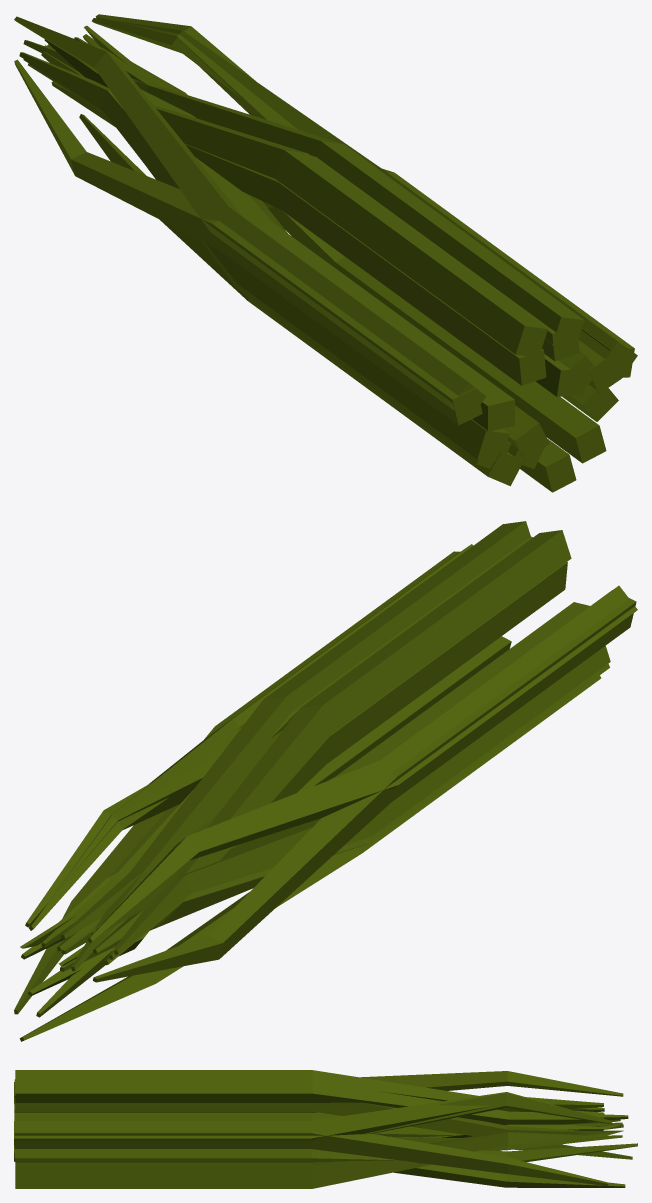
File: grass_fibers.fbx
3 views of the same model, one above another, from view 1: azimuth 30°, elevation 25°; view 2: azimuth 150°, elevation 25°; view 3: azimuth 270°, elevation 25° (orthographic). The views are drawn at different scales.
Parts seen in each view (by area): view 1: Cube; view 2: Cube; view 3: Cube.
Boxes of the visible parts, x1,y1,x2,y2 form: Cube: [14, 14, 637, 492]; Cube: [14, 521, 637, 1041]; Cube: [14, 1070, 637, 1188].
Bounding box in the file's own units: 18.74 × 16.99 × 87.37.
